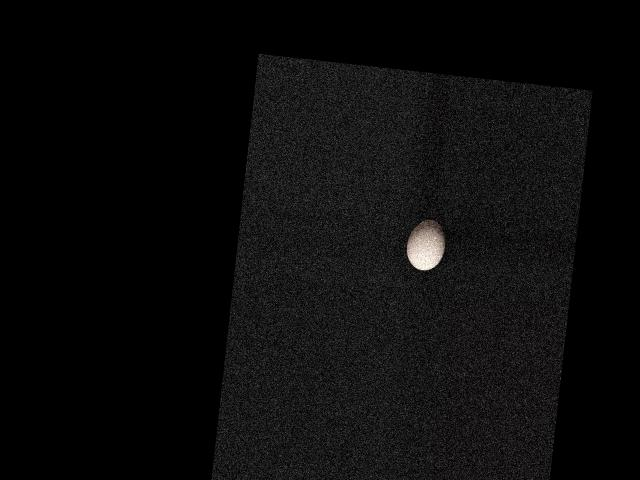egg: (404, 217, 447, 273)
